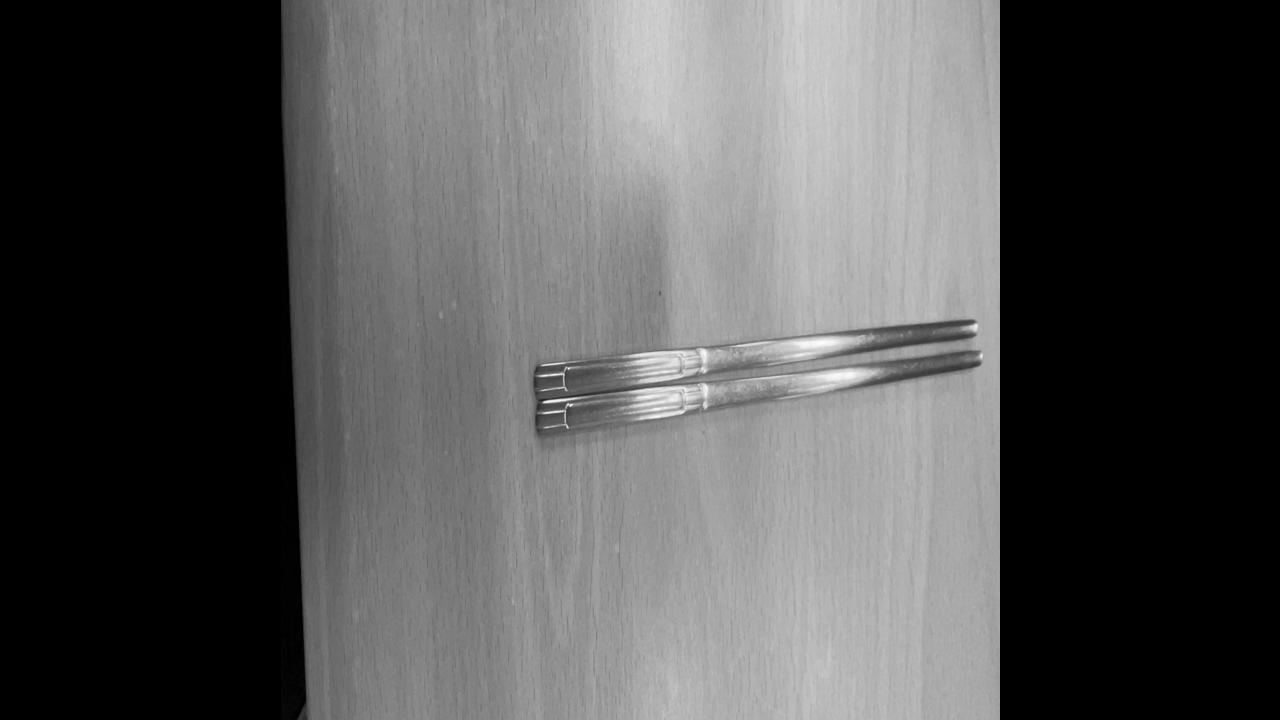chopstick: (532, 306, 984, 446)
